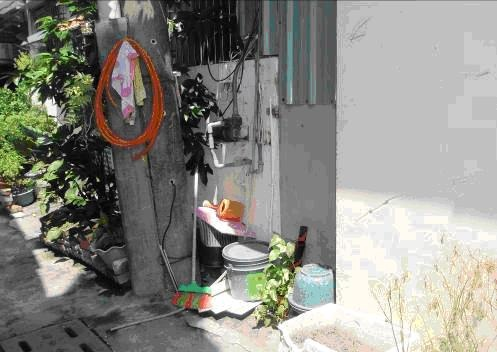bucket: (221, 240, 270, 301), (288, 264, 335, 310)
